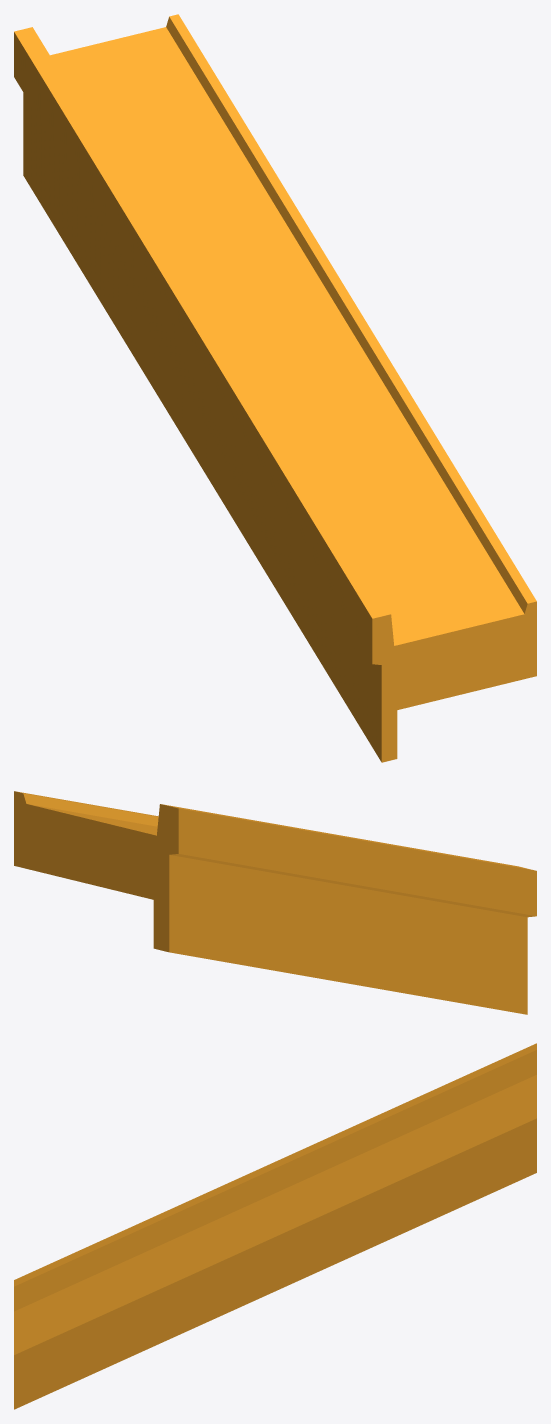
Rendered from SM_Roof_Metal_Moderate_2m_Front.fbx.
3 views of the same model, one above another, from view 1: azimuth 30°, elevation 25°; view 2: azimuth 150°, elevation 25°; view 3: azimuth 270°, elevation 25° (orthographic). The views are drawn at different scales.
Visible parts, largest first — view 1: roof-metal-moderate-2m-front; view 2: roof-metal-moderate-2m-front; view 3: roof-metal-moderate-2m-front.
Boxes of the visible parts, x1,y1,x2,y2 form: roof-metal-moderate-2m-front: [14, 14, 536, 762]; roof-metal-moderate-2m-front: [14, 791, 536, 1014]; roof-metal-moderate-2m-front: [14, 1043, 536, 1409].
Size of the model in its own units: 0.5301 by 1.45 by 2.
